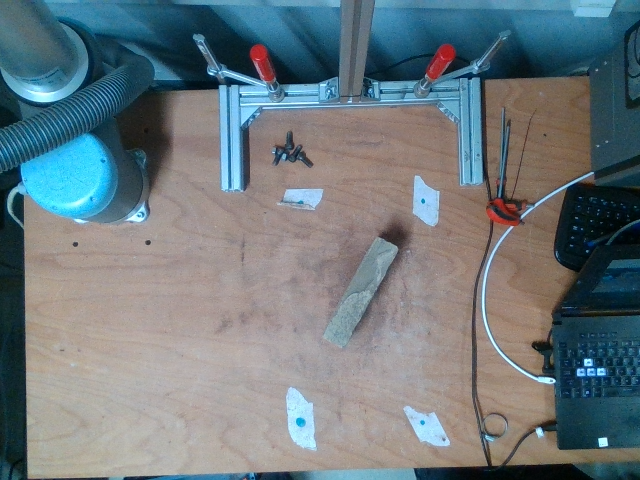brick-side: (324, 236, 398, 348)
